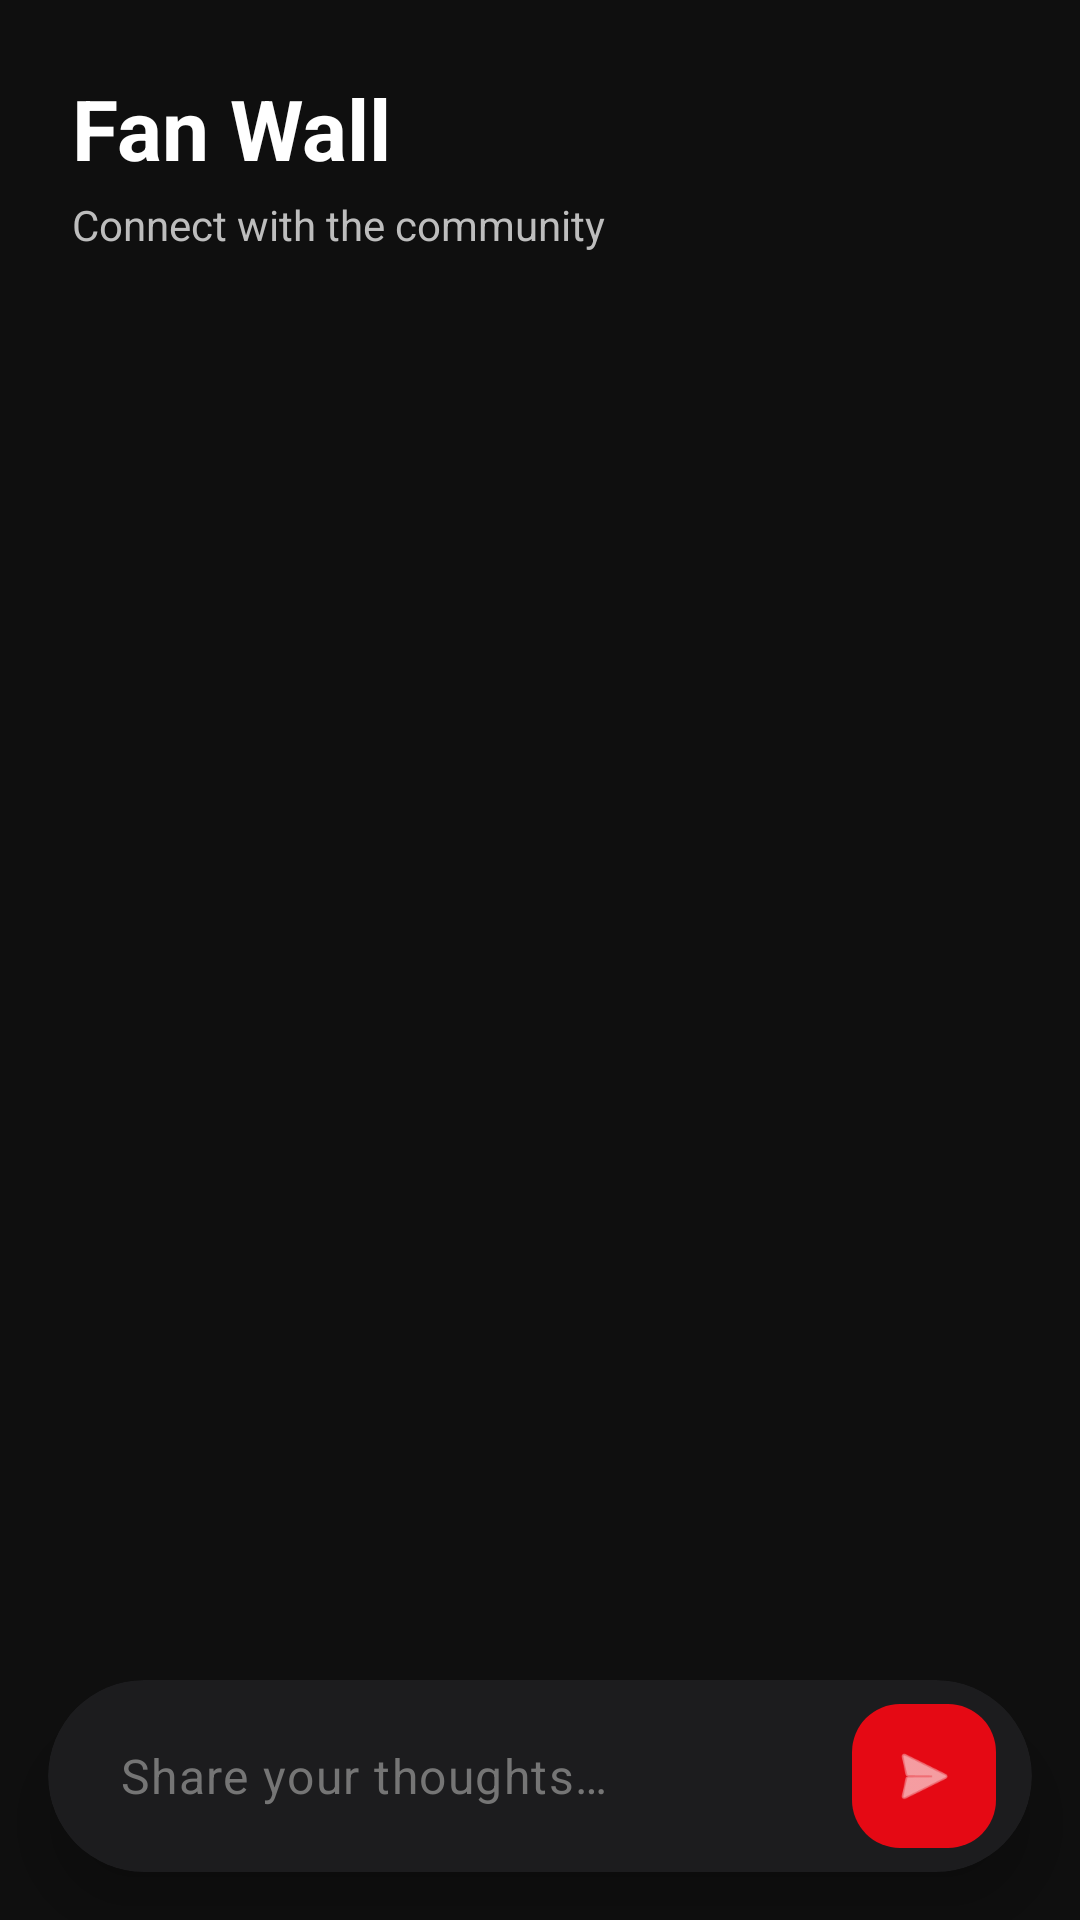

Screen size 1080px x 1920px. Icon name, then its center in pixels as [x,y]:
send: [924,1776]
